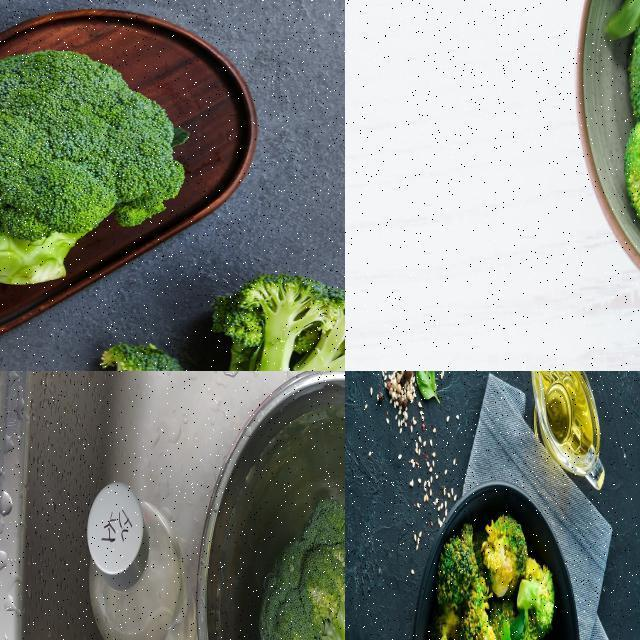broccoli: (0, 47, 185, 287), (155, 275, 344, 370), (255, 488, 344, 639), (478, 511, 532, 604), (432, 526, 480, 619), (89, 340, 181, 370), (514, 570, 552, 630)
